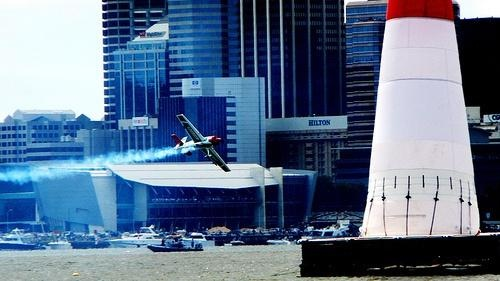aeroplane: (171, 113, 231, 173)
boat: (110, 226, 162, 248), (146, 235, 206, 254), (2, 229, 35, 251)
